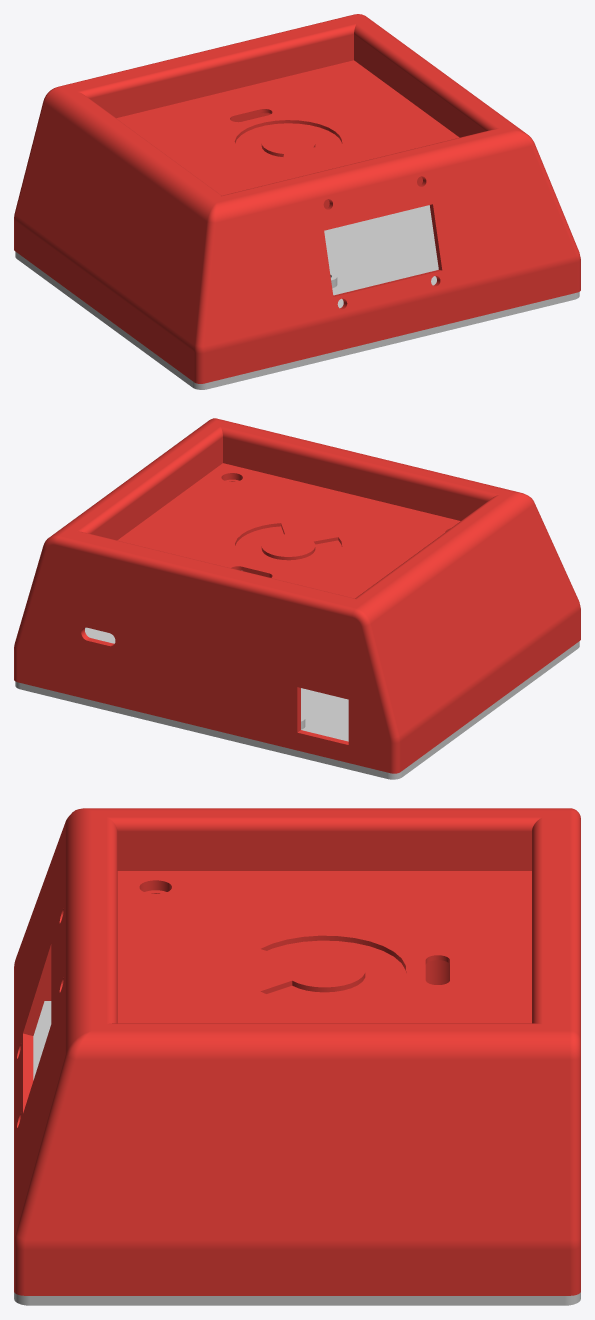
3 views of the same model, one above another, from view 1: azimuth 30°, elevation 25°; view 2: azimuth 150°, elevation 25°; view 3: azimuth 270°, elevation 25° (orthographic). The views are drawn at different scales.
Parts seen in each view (by area): view 1: Corps haut, Body; view 2: Corps haut, Body; view 3: Corps haut, Body.
Boxes of the visible parts, box(x1,y1,x2,y2) form: Corps haut: box(14, 14, 580, 383); Body: box(15, 205, 579, 389); Corps haut: box(14, 418, 580, 773); Body: box(15, 627, 579, 779); Corps haut: box(14, 808, 580, 1295); Body: box(14, 1001, 580, 1305).
Size of the model in its own units: 124 by 49 by 104.
